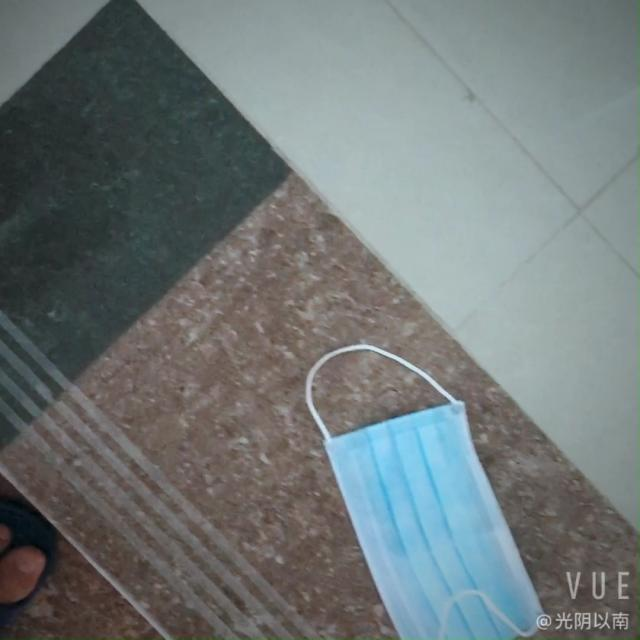non-organic waste: (328, 398, 542, 633)
